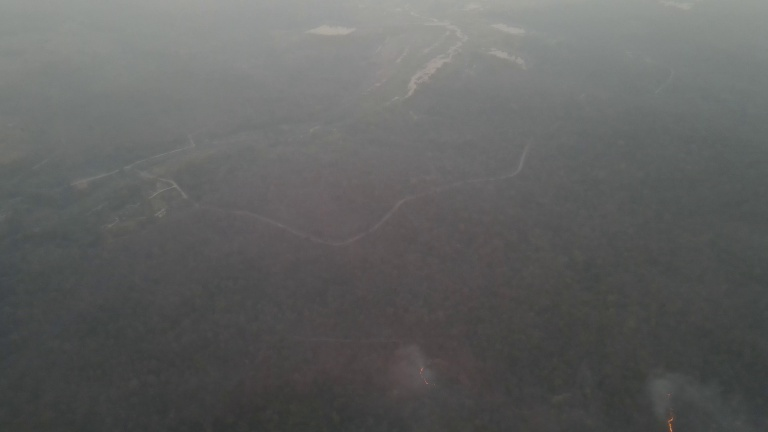fire: (420, 357, 444, 387), (665, 389, 678, 432)
smoke: (640, 364, 768, 432), (381, 338, 462, 403)
